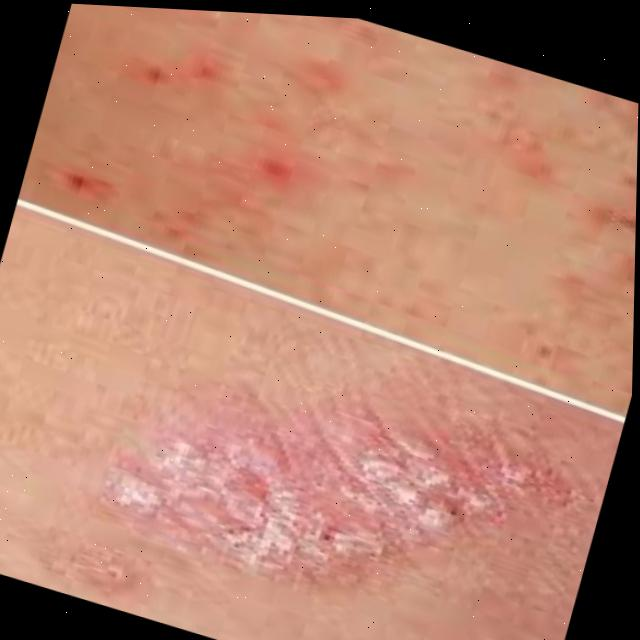Eczema: (41, 3, 640, 386), (58, 316, 590, 640)
